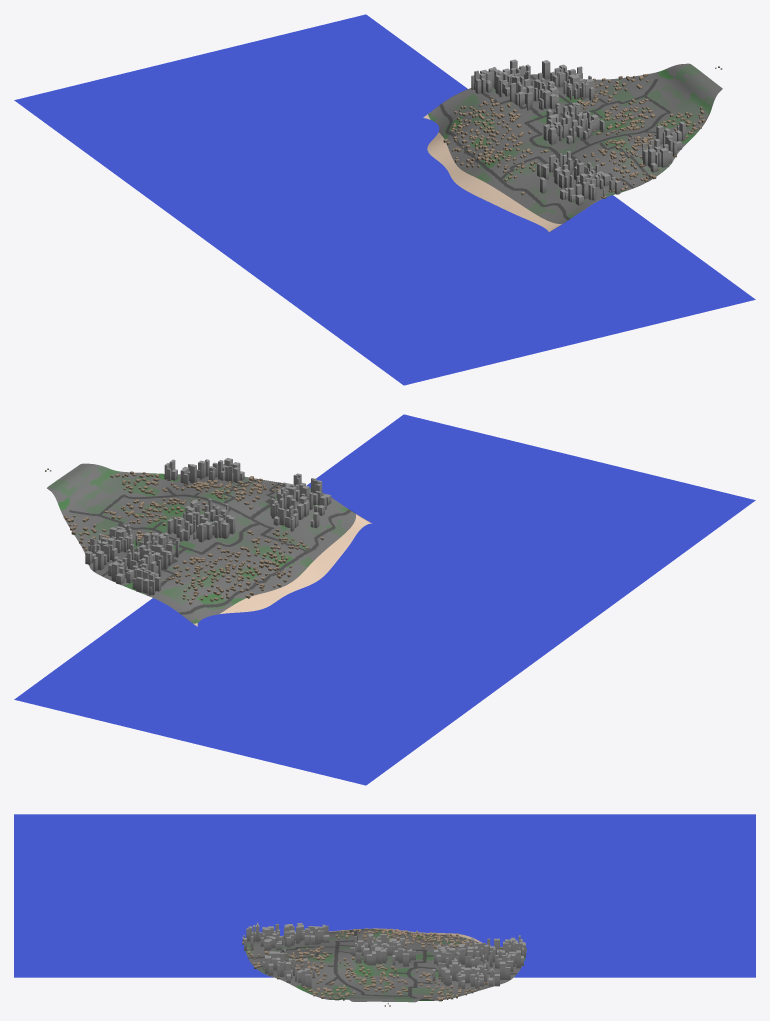
File: end_city.fbx
3 renders of one model, top to bottom at view 1: azimuth 30°, elevation 25°; view 2: azimuth 150°, elevation 25°; view 3: azimuth 270°, elevation 25°, orthographic. The views are drawn at different scales.
Visible parts, largest first — view 1: Plane.001, Plane; view 2: Plane.001, Plane; view 3: Plane.001, Plane.
Boxes of the visible parts, x1,y1,x2,y2 form: Plane.001: (14,14,755,385); Plane: (423,63,722,232); Plane.001: (14,414,755,785); Plane: (47,463,372,626); Plane.001: (14,814,755,977); Plane: (242,928,526,1002).
Bounding box in the file's own units: 891 × 103 × 1173.
5 materials, 3 textured.
